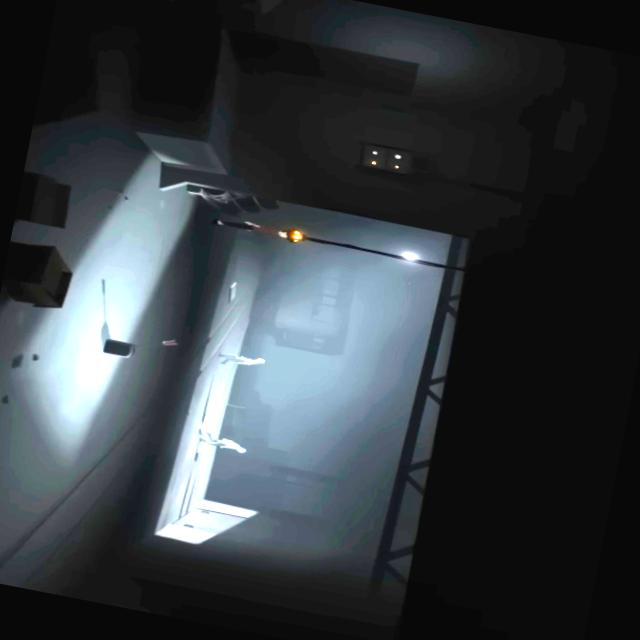boy: (209, 214, 291, 240)
